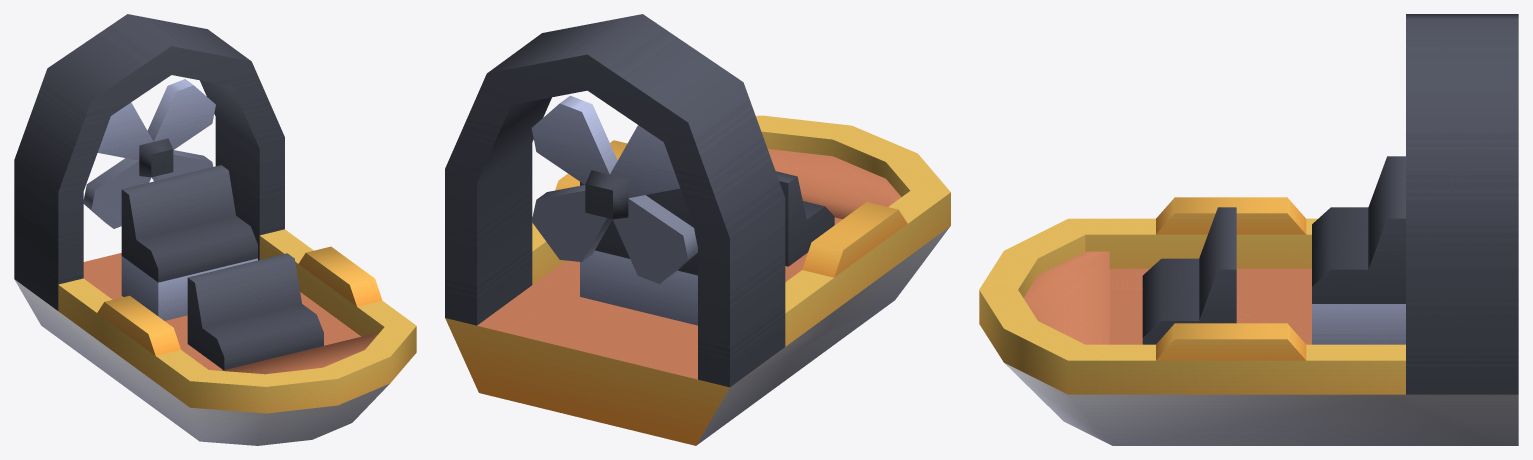
The model's file is boat-fan.glb.
The picture shows the model from 3 angles, left to right: view 1: azimuth 30°, elevation 25°; view 2: azimuth 150°, elevation 25°; view 3: azimuth 270°, elevation 25°; orthographic projection. The views are drawn at different scales.
Parts seen in each view (by area): view 1: boat-fan, fan; view 2: boat-fan, fan; view 3: boat-fan.
Boxes of the visible parts, left/top/right/bottom form: boat-fan: left=14, top=14, right=416, bottom=445; fan: left=83, top=79, right=215, bottom=228; boat-fan: left=445, top=14, right=950, bottom=445; fan: left=531, top=95, right=697, bottom=283; boat-fan: left=979, top=14, right=1518, bottom=445.
Bounding box in the file's own units: 1.78 × 2.18 × 2.87.
Materials: 1 (1 with a texture image).
